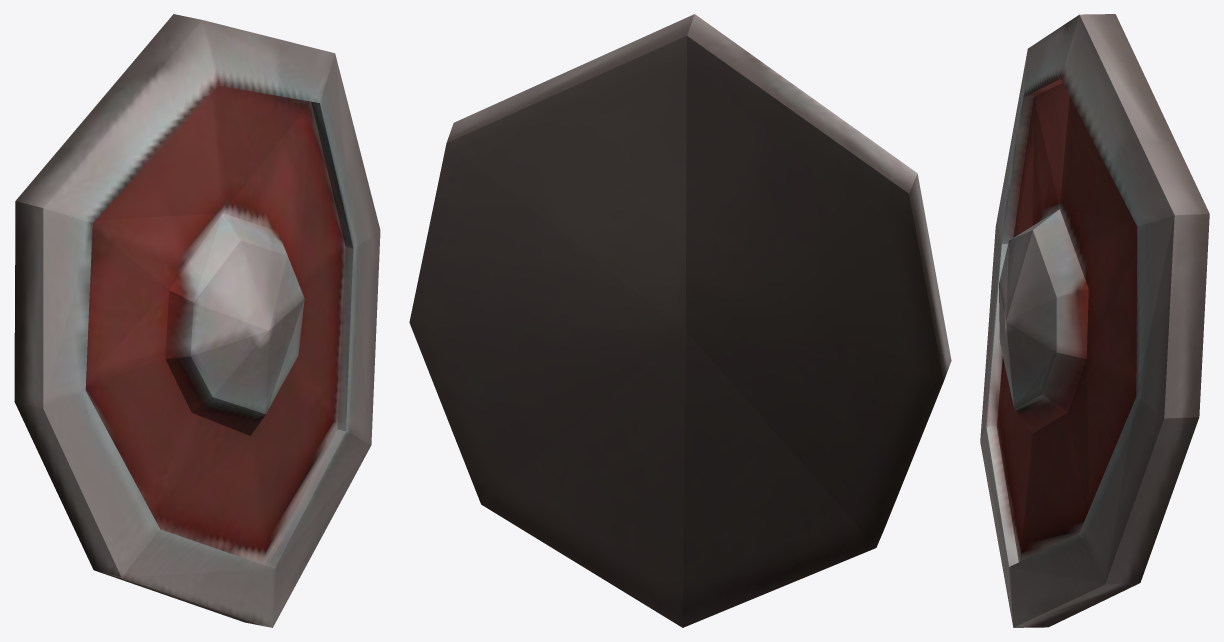
Rendered from warrior_shield.glb.
The picture shows the model from 3 angles, left to right: view 1: azimuth 30°, elevation 25°; view 2: azimuth 150°, elevation 25°; view 3: azimuth 270°, elevation 25°; orthographic projection. The views are drawn at different scales.
Visible parts, largest first — view 1: WarriorShield; view 2: WarriorShield; view 3: WarriorShield.
Boxes of the visible parts, left/top/right/bottom form: WarriorShield: left=14, top=14, right=380, bottom=627; WarriorShield: left=409, top=14, right=951, bottom=627; WarriorShield: left=980, top=14, right=1209, bottom=627.
Size of the model in its own units: 0.2363 by 0.3125 by 0.1084.
1 material, 1 textured.
